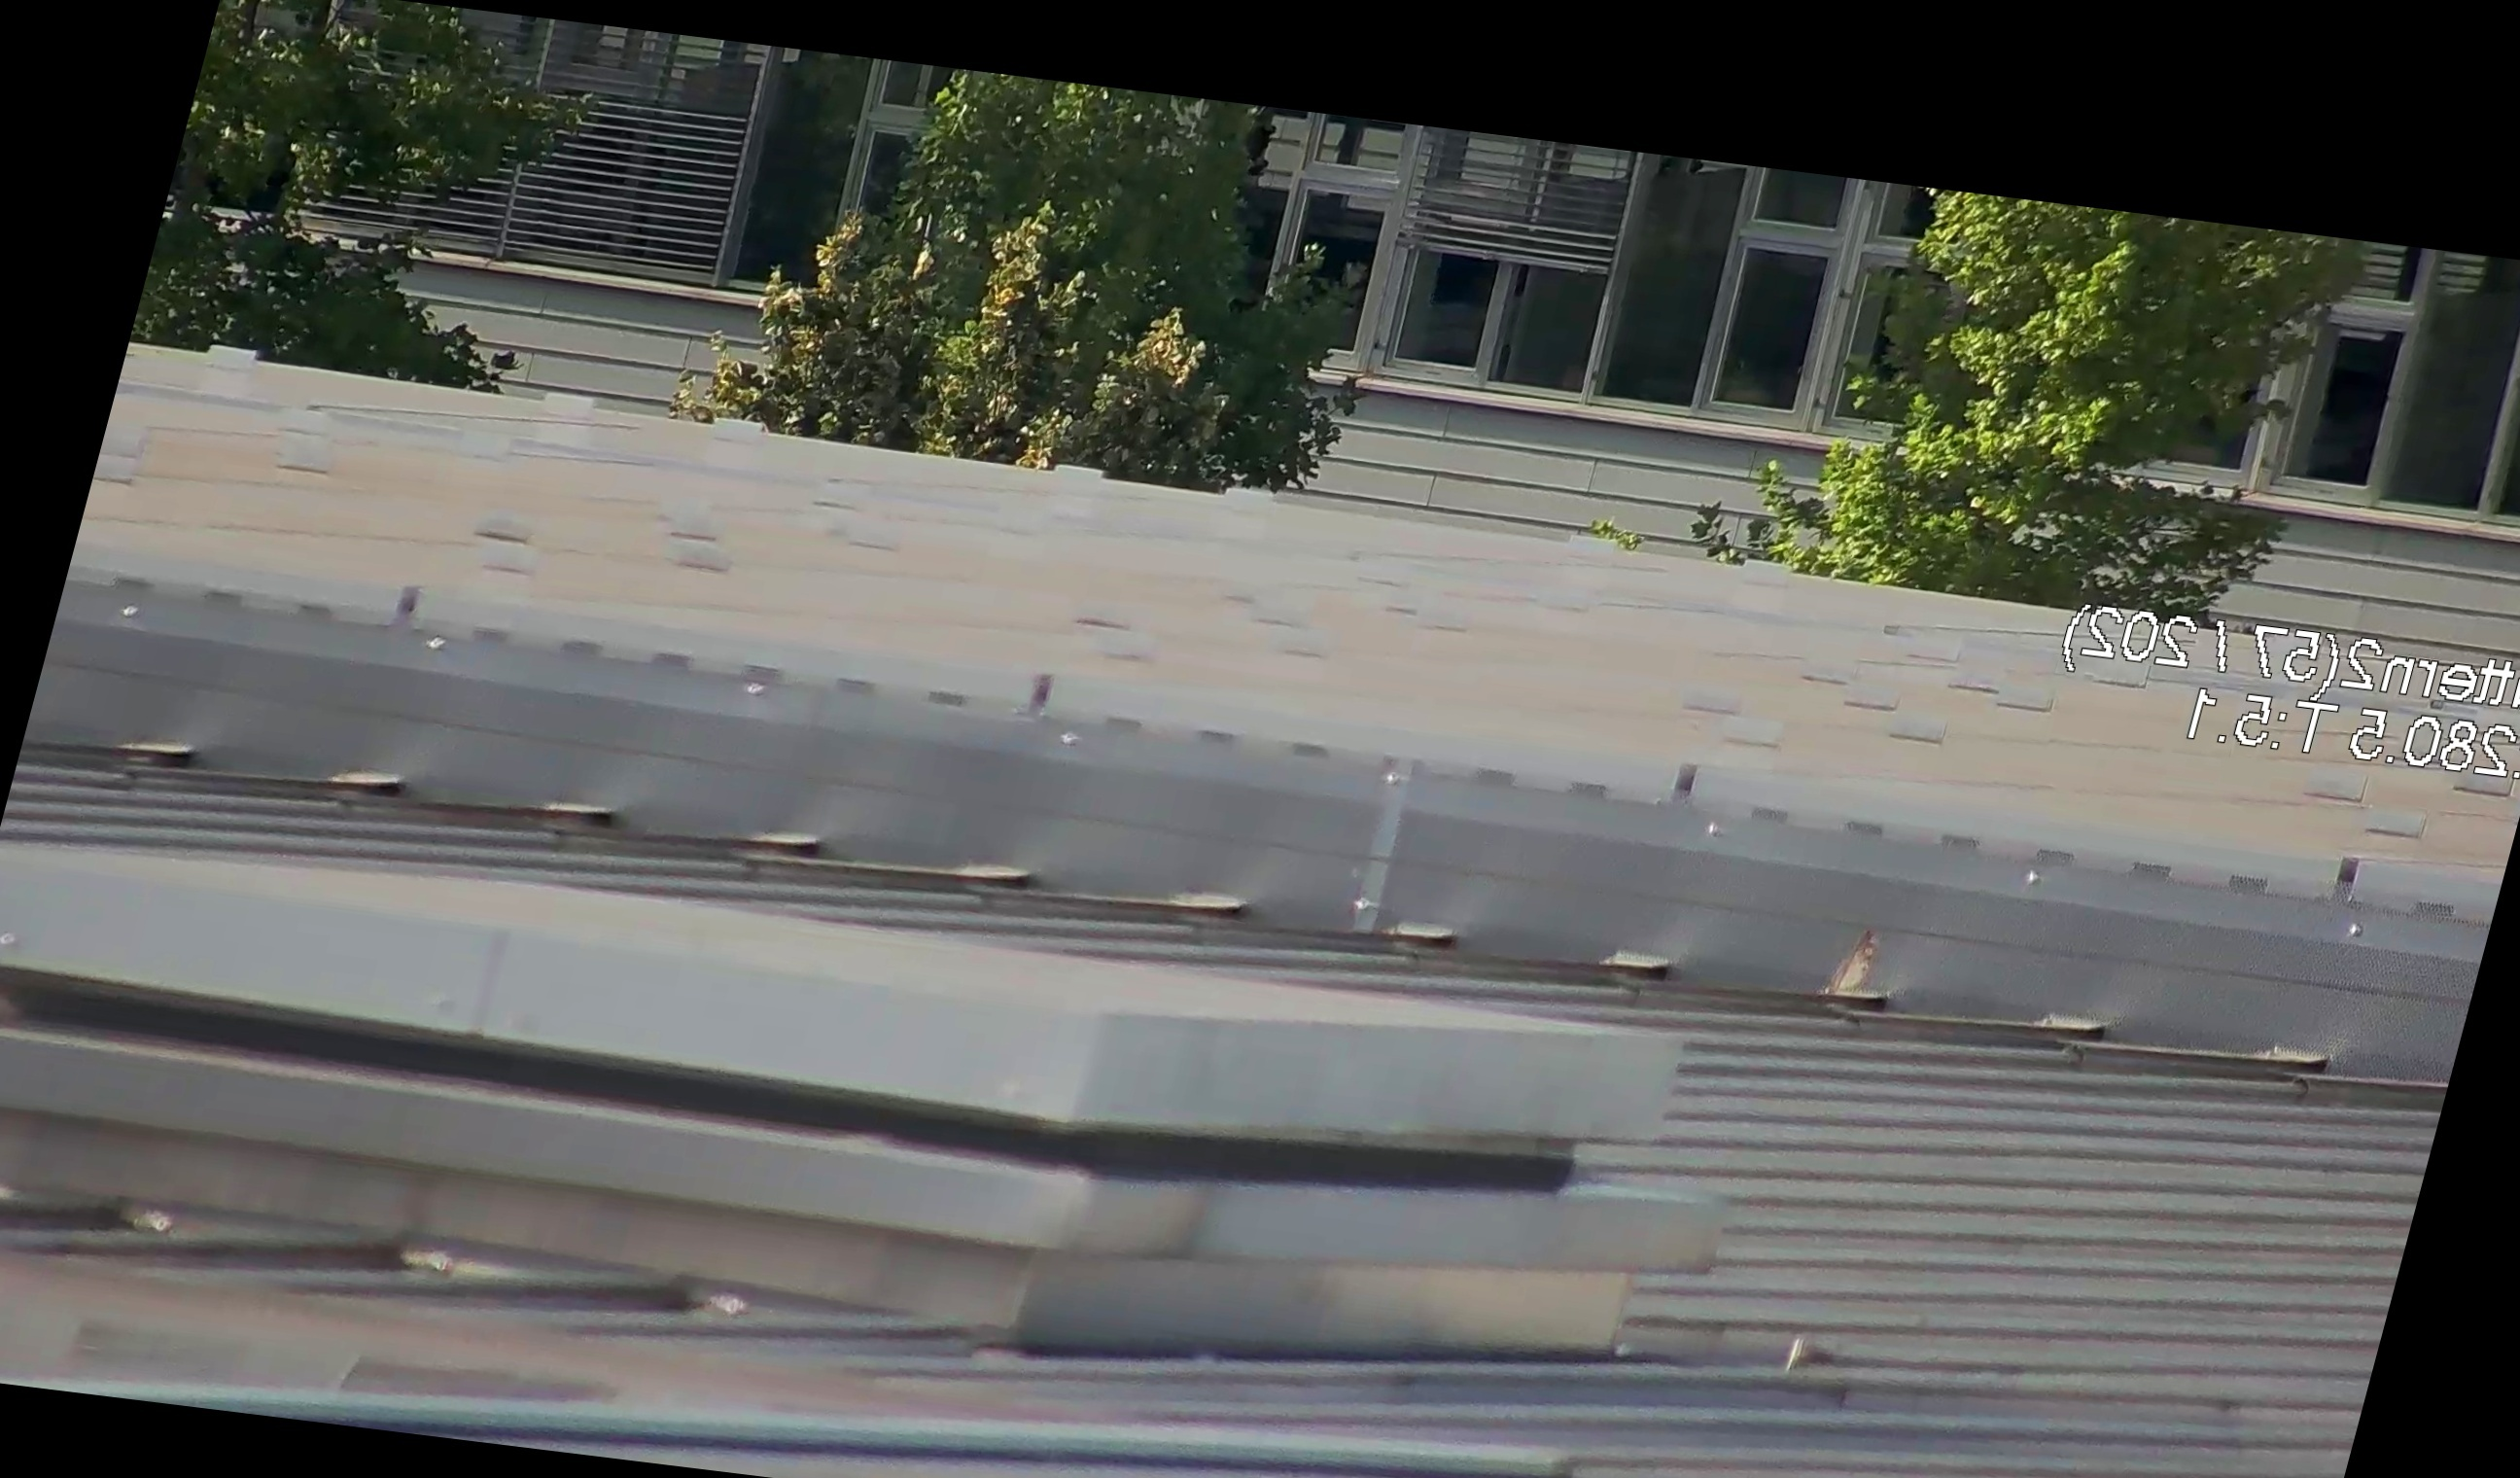Other: (1818, 904, 1926, 1022)
